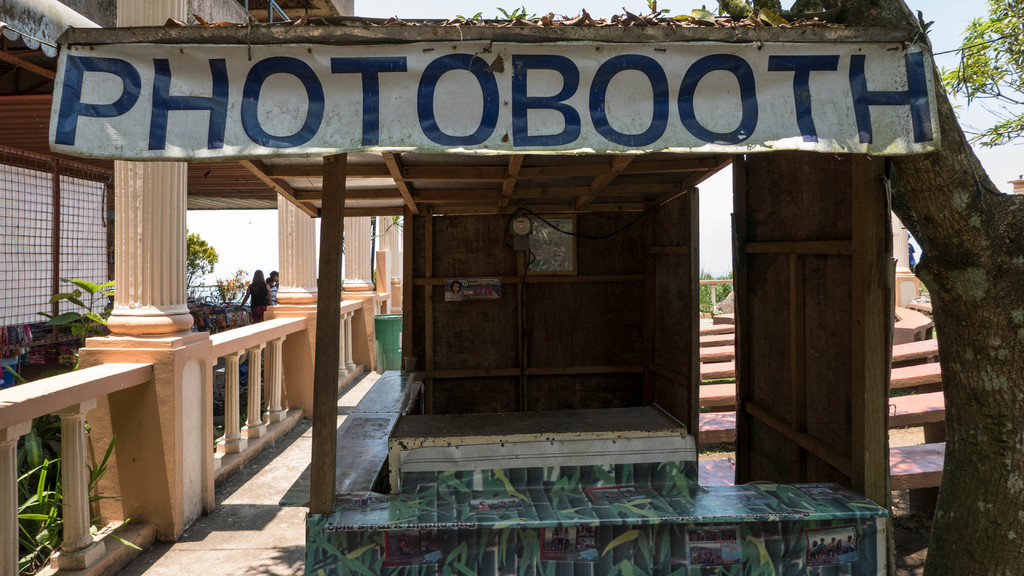Tree: (935, 0, 1023, 152), (184, 229, 220, 295)
